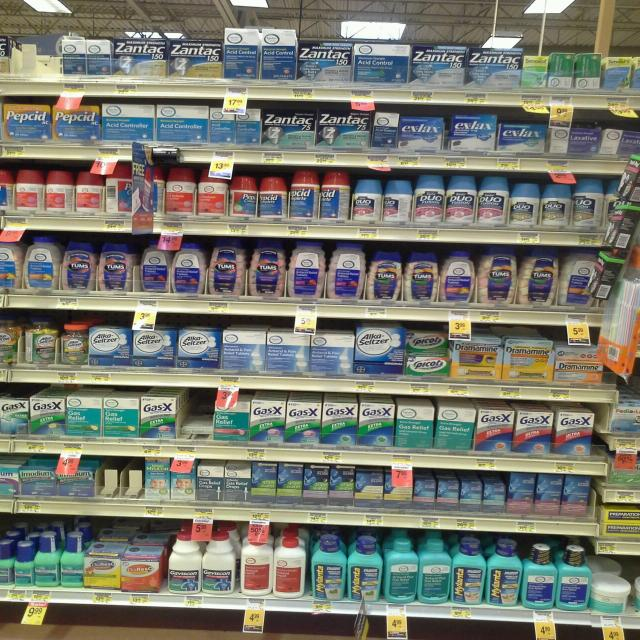unorganised: (112, 38, 224, 80), (294, 37, 355, 83), (408, 46, 468, 87), (549, 50, 603, 90), (139, 242, 171, 295), (573, 177, 603, 230), (383, 178, 411, 227), (406, 331, 451, 359)
